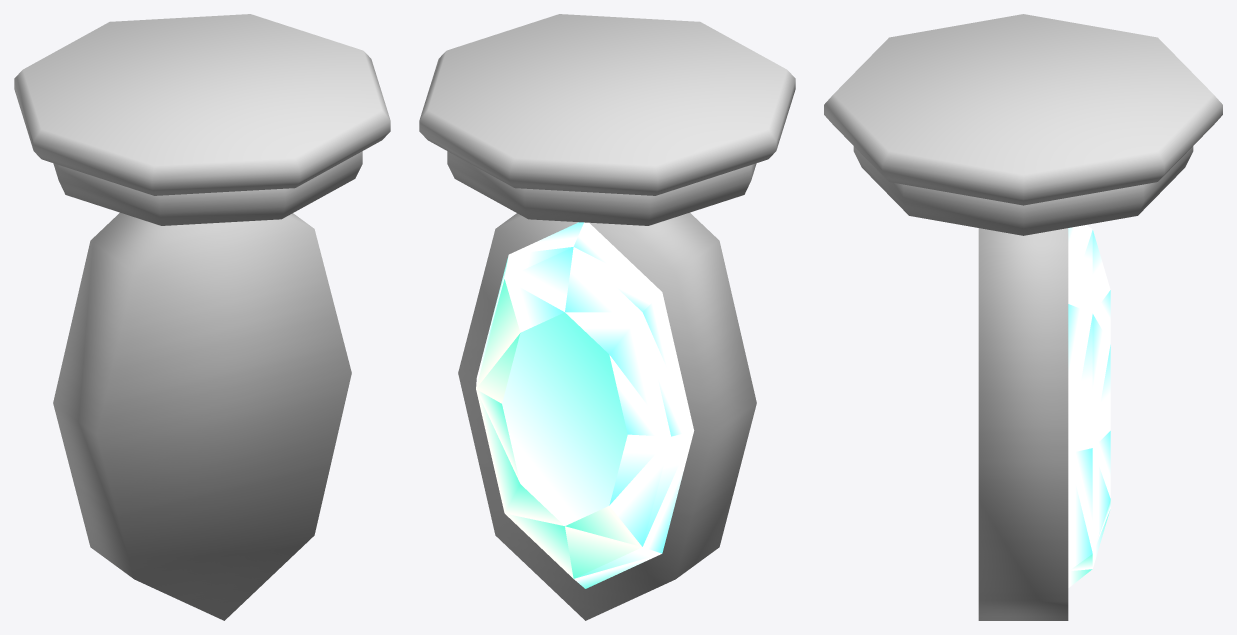
The model's file is stone_pommel_186.glb.
The picture shows the model from 3 angles, left to right: view 1: azimuth 30°, elevation 25°; view 2: azimuth 150°, elevation 25°; view 3: azimuth 270°, elevation 25°; orthographic projection. The views are drawn at different scales.
Visible parts, largest first — view 1: stone_pommel.186; view 2: stone_pommel.186; view 3: stone_pommel.186.
Boxes of the visible parts, <box> form: stone_pommel.186: <box>14,14,390,620</box>; stone_pommel.186: <box>419,14,795,620</box>; stone_pommel.186: <box>824,14,1222,620</box>.
Bounding box in the file's own units: 2.26 × 3.29 × 2.26.
1 material, 1 textured.
